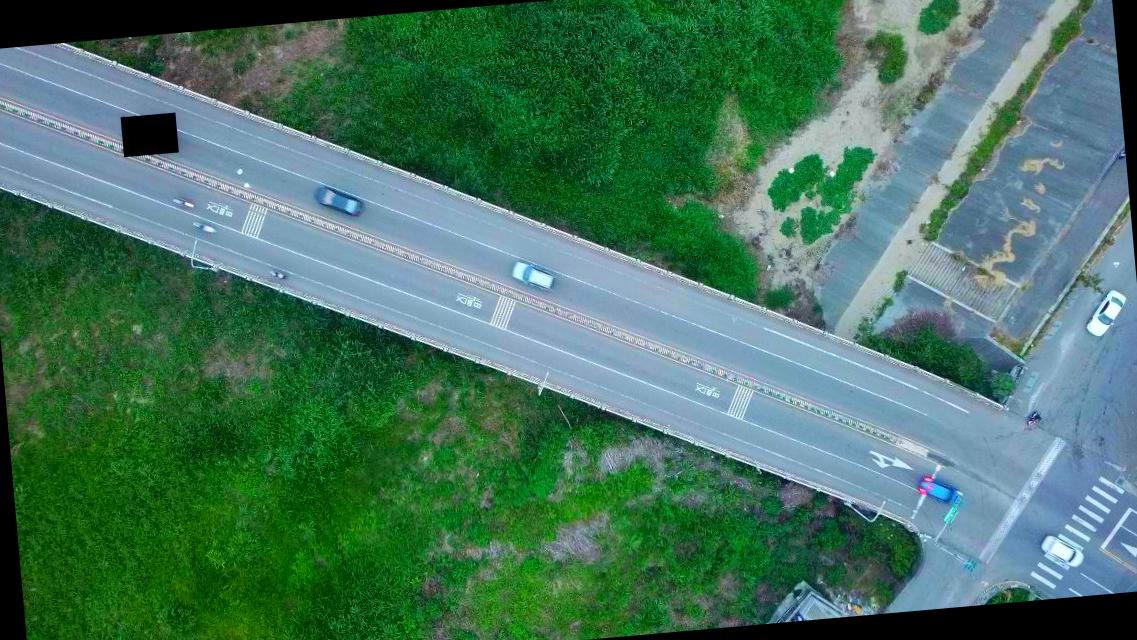vehicle: (1082, 287, 1128, 338), (312, 182, 364, 220), (1038, 533, 1084, 569), (918, 472, 964, 508), (510, 258, 556, 293)
